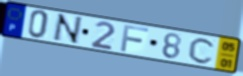0: (28, 10, 52, 41)
2: (91, 20, 118, 52)
8: (161, 32, 183, 60)
C: (187, 37, 217, 65)
F: (119, 24, 150, 53)
N: (50, 13, 85, 46)
